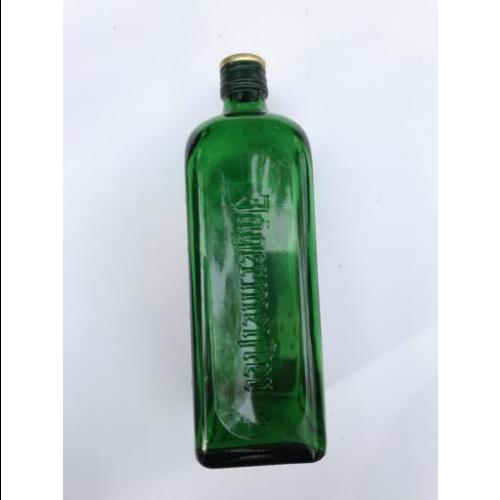glass: (184, 53, 327, 469)
